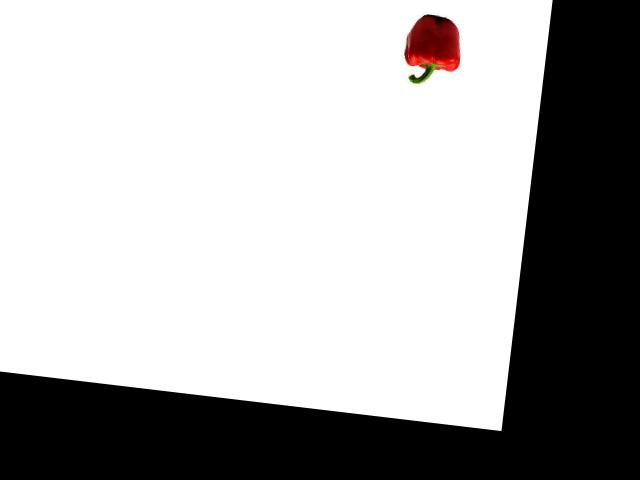bell_pepper: (397, 9, 469, 90)
